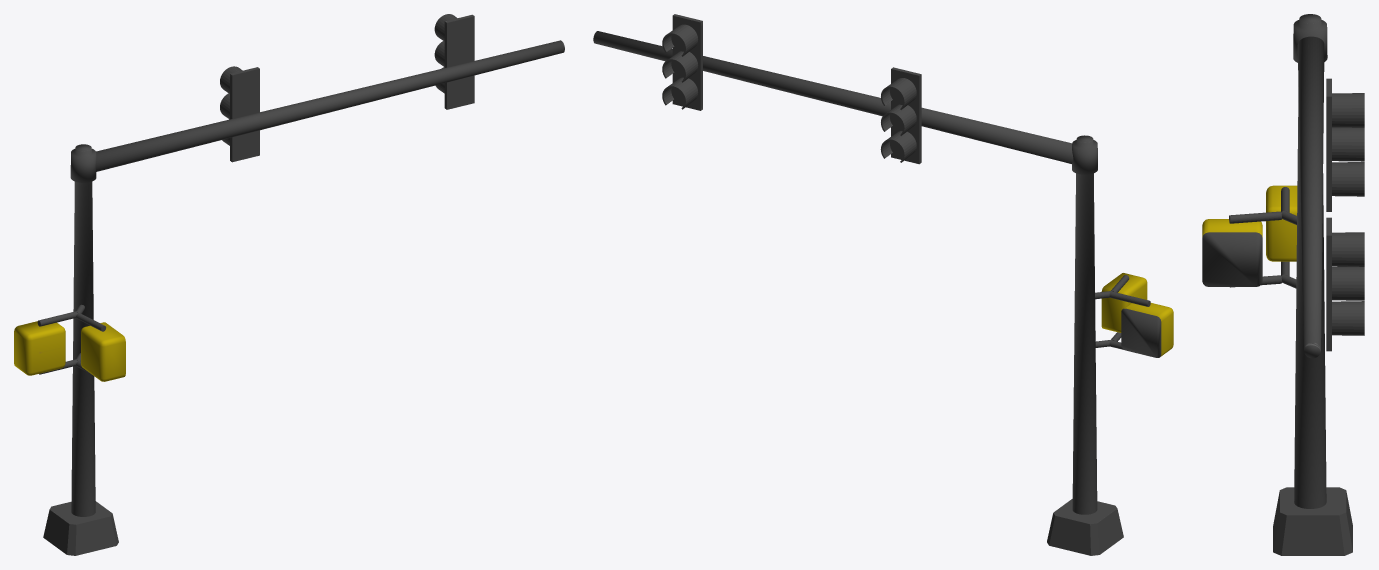
File: MassAve_TrafficLightPost_1_Mesh.fbx
3 renders of one model, left to right at view 1: azimuth 30°, elevation 25°; view 2: azimuth 150°, elevation 25°; view 3: azimuth 270°, elevation 25°, orthographic. The views are drawn at different scales.
Visible parts, largest first — view 1: Traffic Light; view 2: Traffic Light; view 3: Traffic Light.
Part boxes in pixels (<box>): Traffic Light: <box>14,14,564,555</box>; Traffic Light: <box>593,14,1173,555</box>; Traffic Light: <box>1202,14,1364,555</box>.
Size of the model in its own units: 931 by 682 by 179.
Materials: 1 (1 with a texture image).
